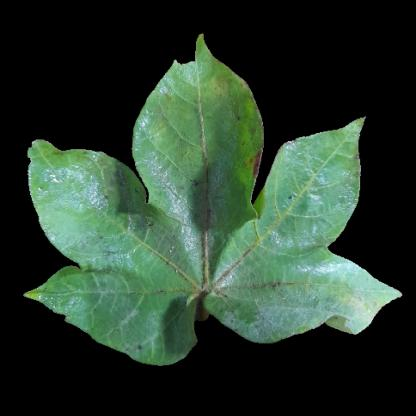healthy: (73, 195, 176, 330), (175, 89, 241, 222), (242, 246, 327, 325), (278, 160, 347, 239)
